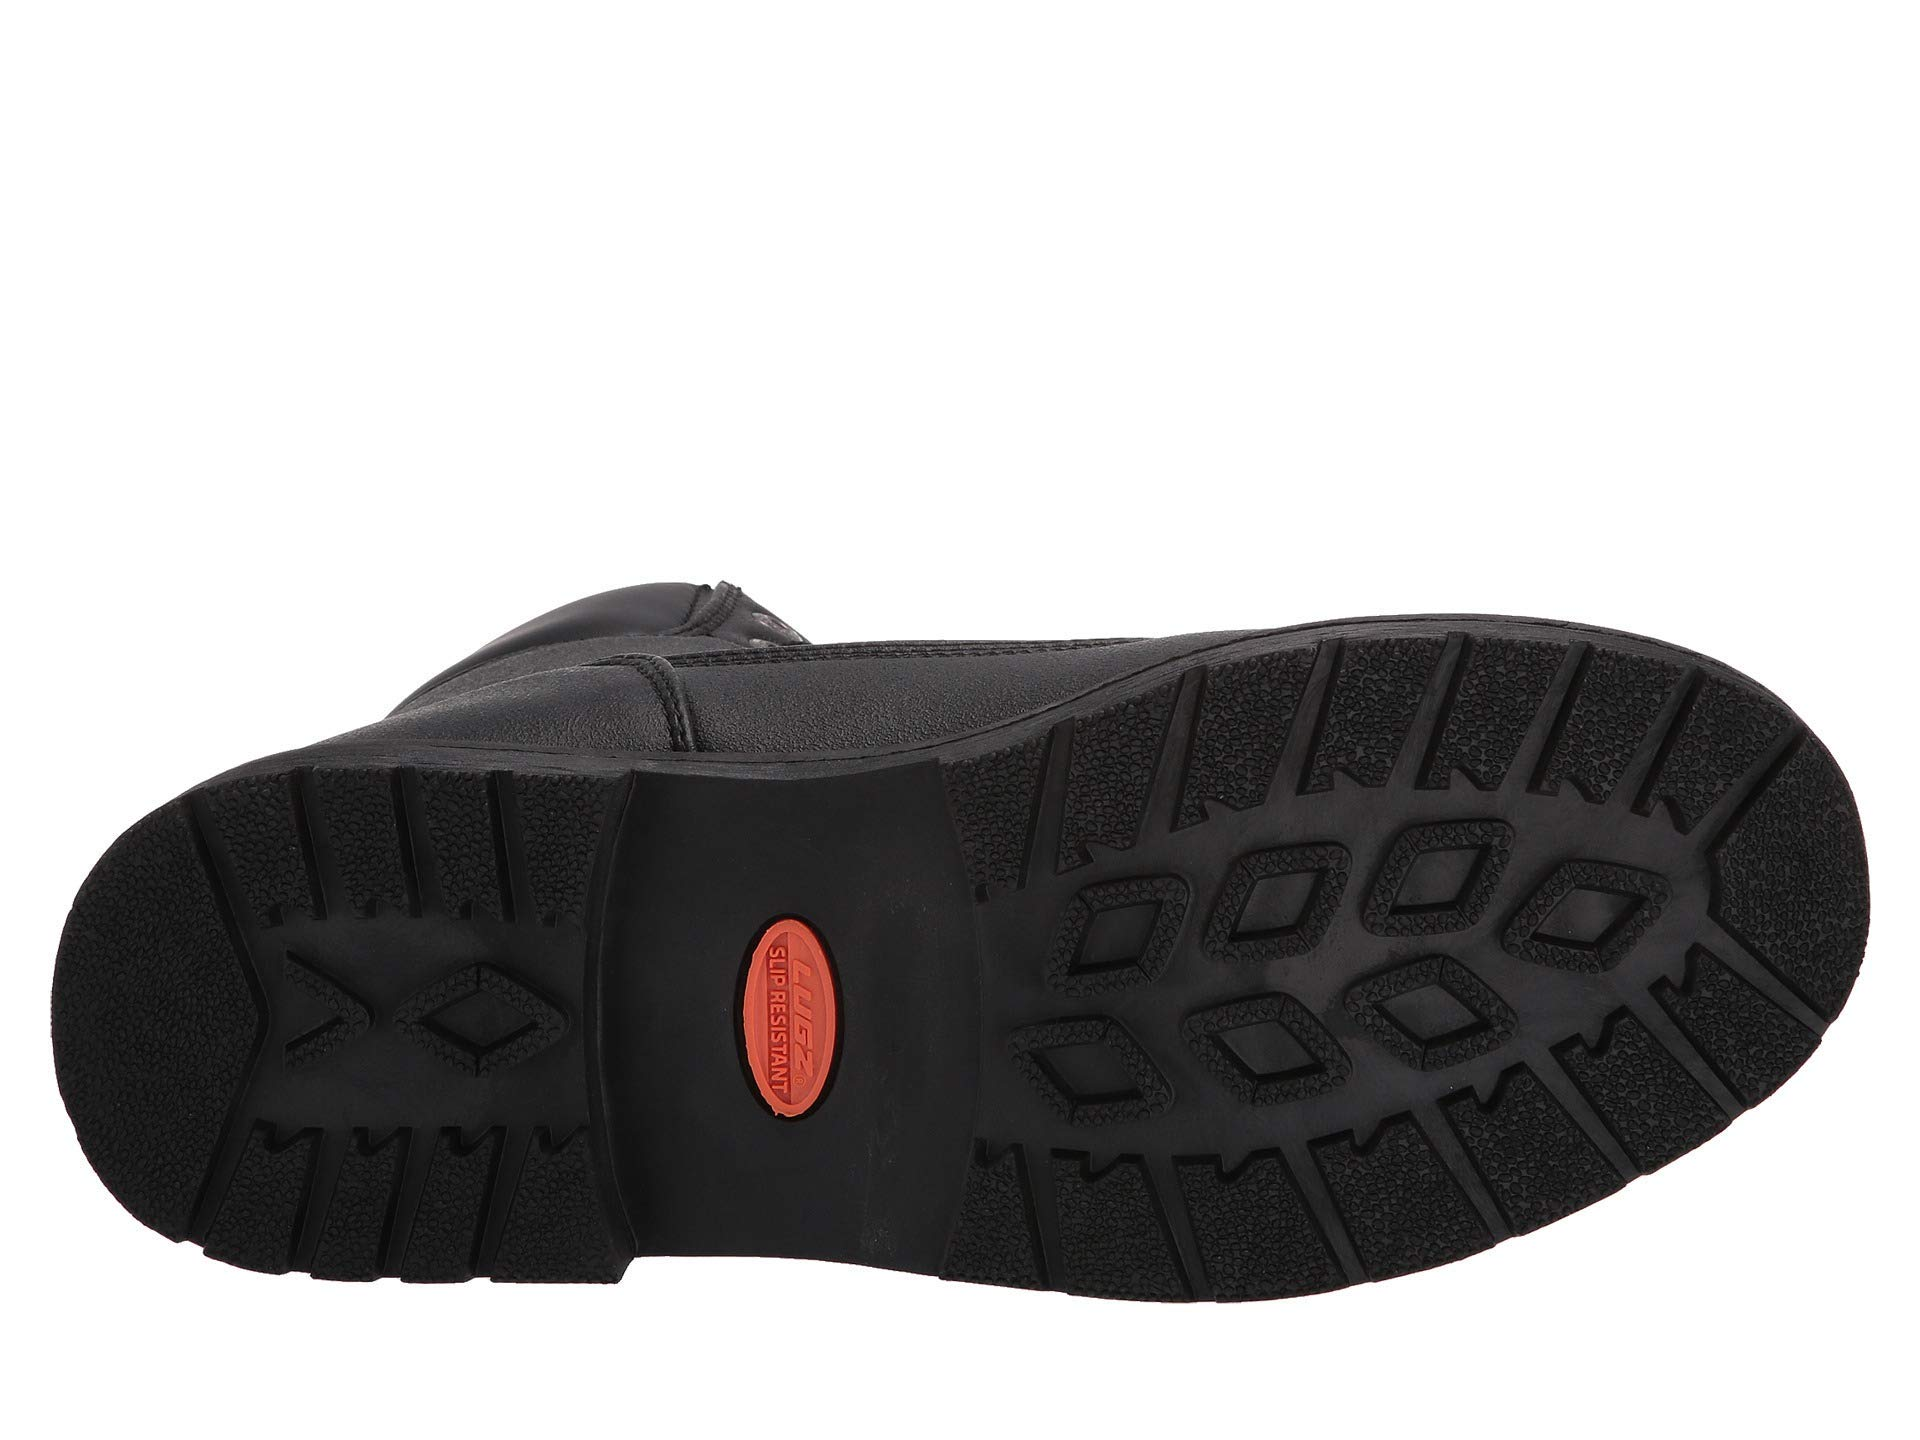chevron: (263, 942, 370, 1115)
quad: (1030, 812, 1652, 1130), (389, 944, 571, 1134)
